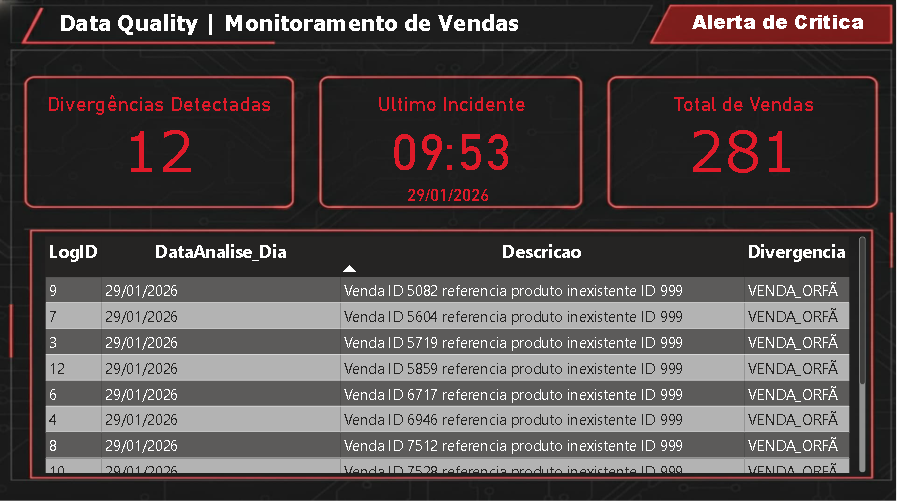

What the dashboard file says about the page in this screenshot:
{"tool":"powerbi","page":{"name":"Página 1","canvas":[1280,720],"ordinal":0},"visuals":[{"type":"card","fields":{"Values":["auditoria_vendas_export.qtdDivergencia"]},"box":[36,110,384,188],"z":0},{"type":"textbox","box":[36,128,384,112],"z":1000},{"type":"card","fields":{"Values":["Min(auditoria_vendas_export.DataAnalise)"]},"box":[448,260,384,38],"z":2000},{"type":"card","fields":{"Values":["Min(auditoria_vendas_export.DataAnalise)"]},"box":[458,110,374,188],"z":3000},{"type":"textbox","box":[458,128,374,112],"z":4000},{"type":"card","fields":{"Values":["Sum(vendas.QuantidadeVendida)"]},"box":[870,110,384,188],"z":5000},{"type":"textbox","box":[870,128,384,112],"z":6000},{"type":"textbox","box":[78,0,772,66],"z":7000},{"type":"textbox","box":[960,0,320,66],"z":8000},{"type":"tableEx","fields":{"Values":["auditoria_vendas_export.LogID","auditoria_vendas_export.DataAnalise_Dia","auditoria_vendas_export.Descricao","auditoria_vendas_export.TipoDivergencia"]},"box":[58.3,335,1183.3,346.7],"z":9000}]}

Visuals, with their boxes in screenshot pixels (x1, y1, x2, y2), scaled from the page's 1280x720 canvas onto the 897x501 screenshot:
card - auditoria_vendas_export.qtdDivergencia: 25 77 294 207
textbox: 25 89 294 167
card - Min(auditoria_vendas_export.DataAnalise): 314 181 583 207
card - Min(auditoria_vendas_export.DataAnalise): 321 77 583 207
textbox: 321 89 583 167
card - Sum(vendas.QuantidadeVendida): 610 77 879 207
textbox: 610 89 879 167
textbox: 55 0 596 46
textbox: 673 0 896 46
tableEx - auditoria_vendas_export.LogID x auditoria_vendas_export.DataAnalise_Dia: 41 233 870 474
